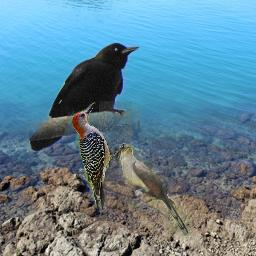Crow: (29, 43, 140, 152)
Cuckoo: (119, 144, 190, 236)
Woodpecker: (68, 101, 132, 209)
